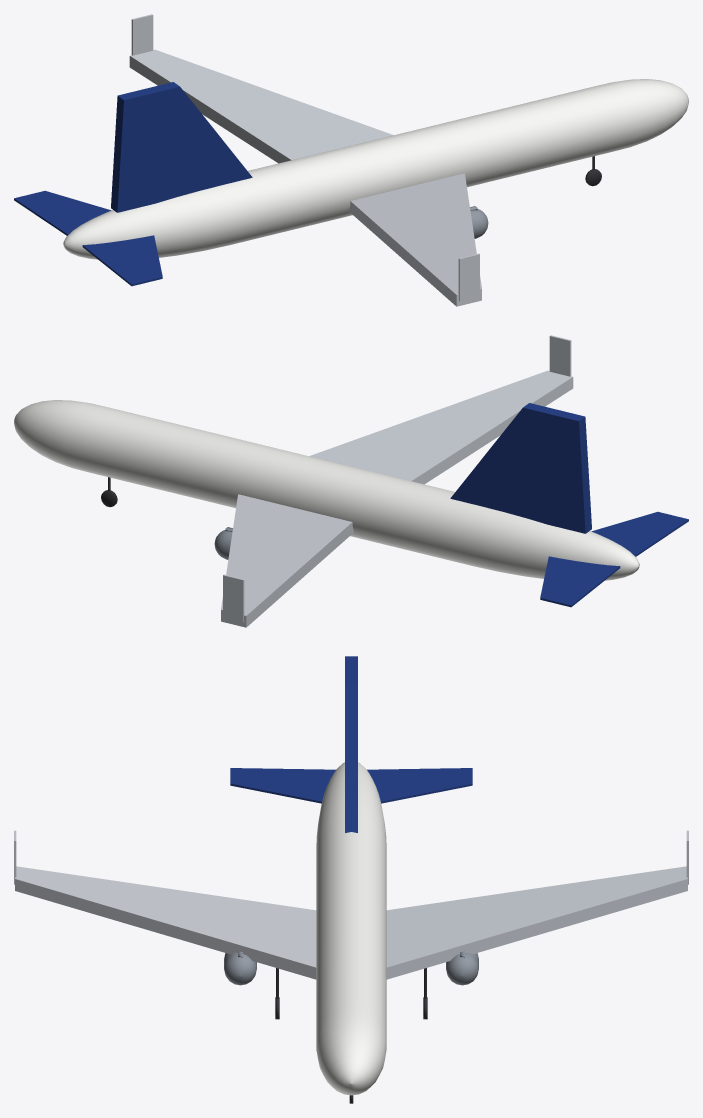
3 views of the same model, one above another, from view 1: azimuth 30°, elevation 25°; view 2: azimuth 150°, elevation 25°; view 3: azimuth 270°, elevation 25° (orthographic). The views are drawn at different scales.
Visible parts, largest first — view 1: fuselage, wings, tail; view 2: fuselage, wings, tail; view 3: wings, fuselage, tail, engines.
Boxes of the visible parts, <box> form: fuselage: <box>63,79,688,259</box>; wings: <box>129,14,481,306</box>; tail: <box>14,82,252,286</box>; fuselage: <box>14,400,639,580</box>; wings: <box>221,335,573,627</box>; tail: <box>450,403,688,607</box>; wings: <box>14,830,688,979</box>; fuselage: <box>316,762,386,1095</box>; tail: <box>230,656,472,832</box>; engines: <box>224,951,478,985</box>.
Bounding box in the file's own units: 39.5 × 12.29 × 36.02.
